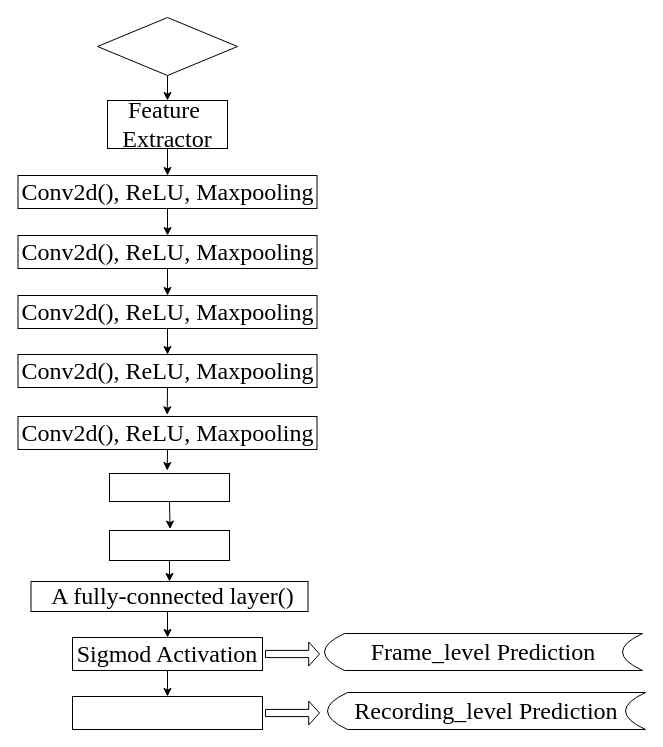
The diagram is 663 pixels wide and 747 high, and some of its shapes have lost their labels. The shapes that lost their labels are listed below. From the top down, each one's centre as x and y in pixels, then its label:
At (x=167, y=46): "audio".
At (x=169, y=487): "Reshape".
At (x=169, y=545): "BiGRU()".
At (x=167, y=713): "Pooling Function".
